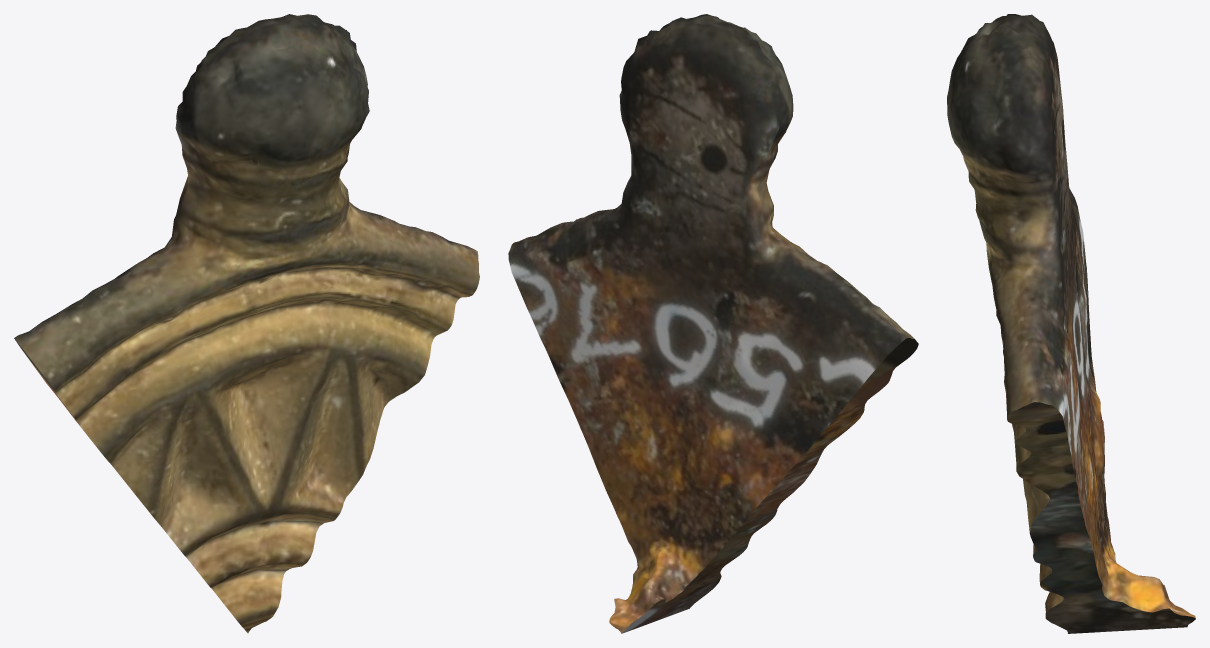
3 renders of one model, left to right at view 1: azimuth 30°, elevation 25°; view 2: azimuth 150°, elevation 25°; view 3: azimuth 270°, elevation 25°, orthographic. The views are drawn at different scales.
Parts seen in each view (by area): view 1: Mesh_0.007; view 2: Mesh_0.007; view 3: Mesh_0.007.
Boxes of the visible parts, bbox=[...] form: Mesh_0.007: bbox=[14, 14, 479, 633]; Mesh_0.007: bbox=[508, 14, 918, 633]; Mesh_0.007: bbox=[947, 14, 1195, 633].
Bounding box in the file's own units: 0.0149 × 0.02 × 0.00738.
1 material, 1 textured.
